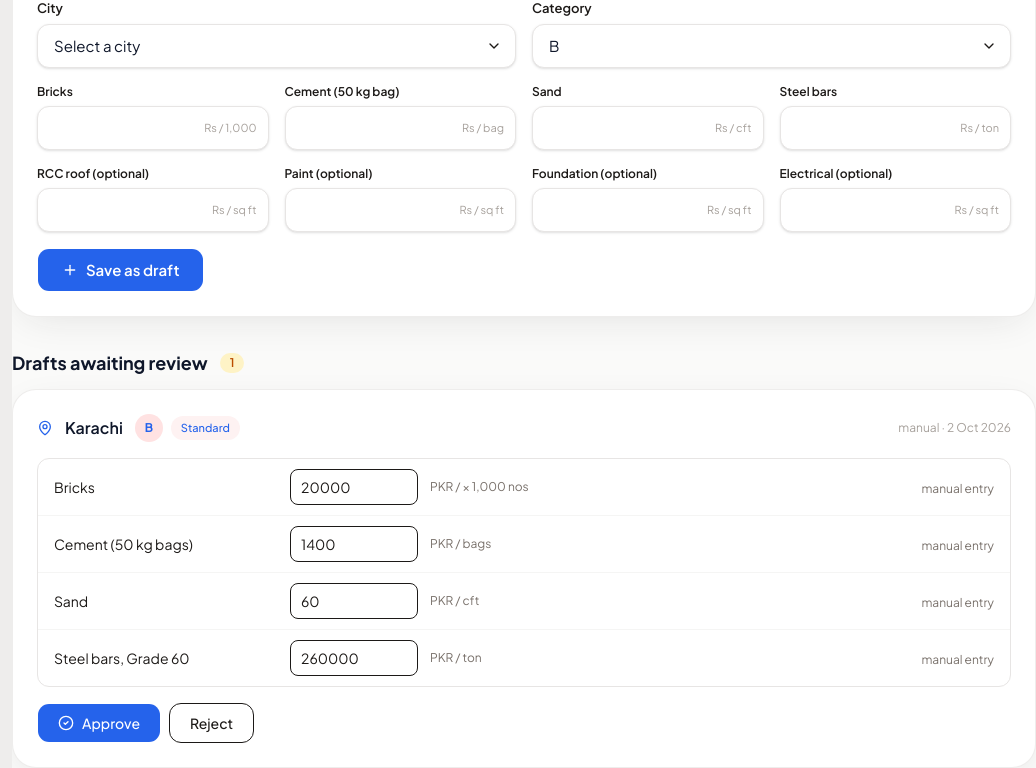
Test: RateSetReviewPanel: drafts › rejects a draft
(page scrolled)
Click the button "Reject" at {"x": 212, "y": 723}, box [169, 703, 254, 743]
(page scrolled)
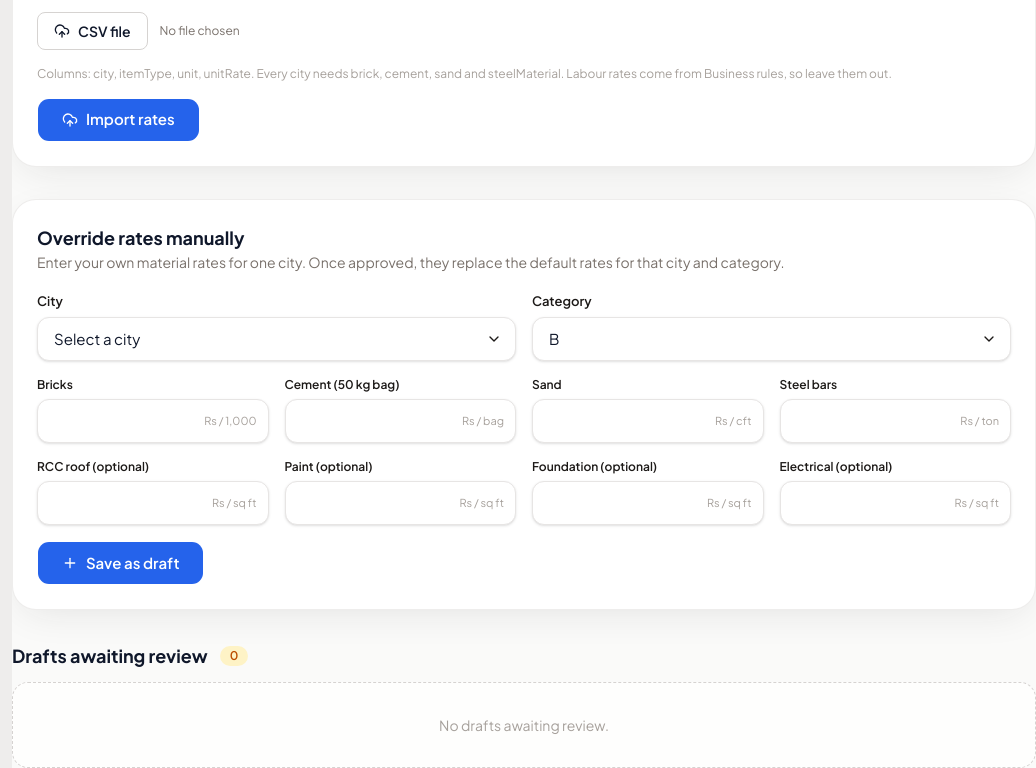
expect the text "No drafts awaiting review." is shown: met, box [12, 682, 1035, 767]
